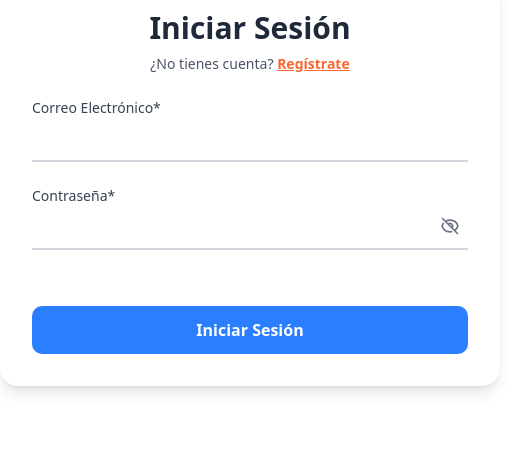
Test: LoginForm › Login fallido › debe limpiar el error al volver a intentar
Primer intento fallido
In the field: (250, 141) [32, 120, 468, 162], type "test@example.com"
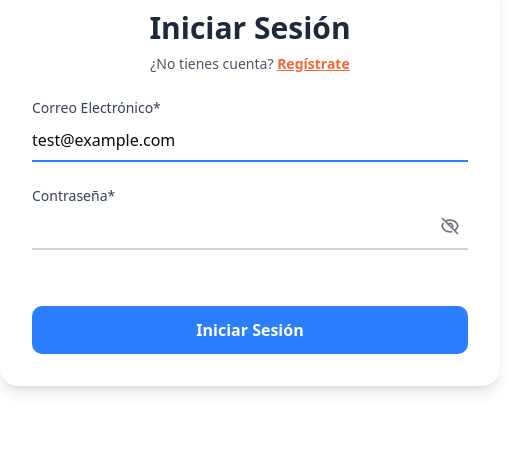
In the password field labelled "Contraseña*": (250, 229) [32, 208, 468, 250], type "Wrong1234"
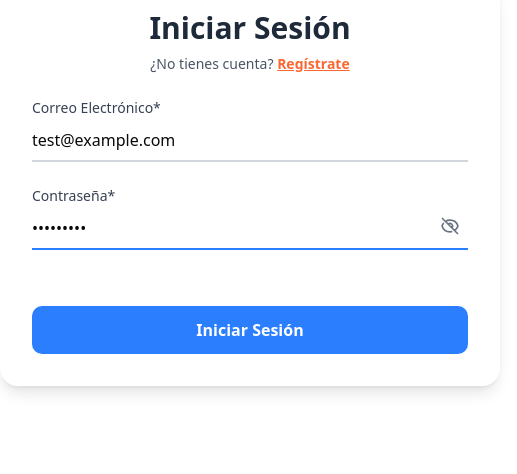
Click the button "Iniciar Sesión": (250, 330) [32, 306, 468, 354]
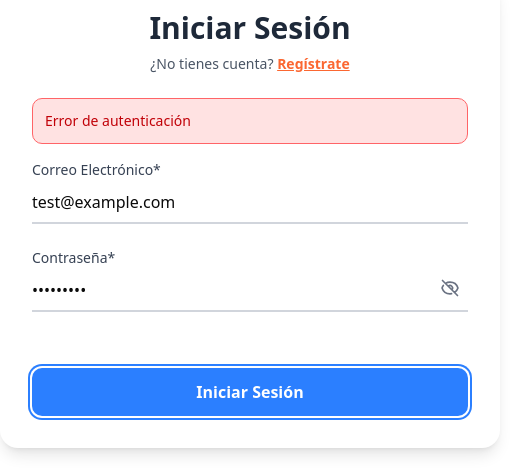
expect the text "Error de autenticación" is shown: met, box [32, 98, 468, 144]
Segundo intento exitoso
In the password field labelled "Contraseña*": (250, 291) [32, 270, 468, 312], type "Correct1234"
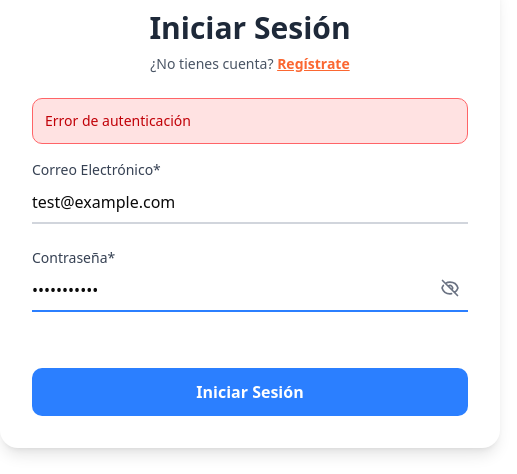
Click the button "Iniciar Sesión": (250, 392) [32, 368, 468, 416]
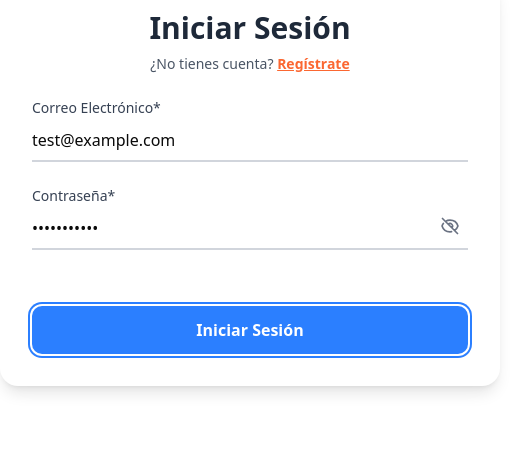
expect the text "Error de autenticación" is gone: met
